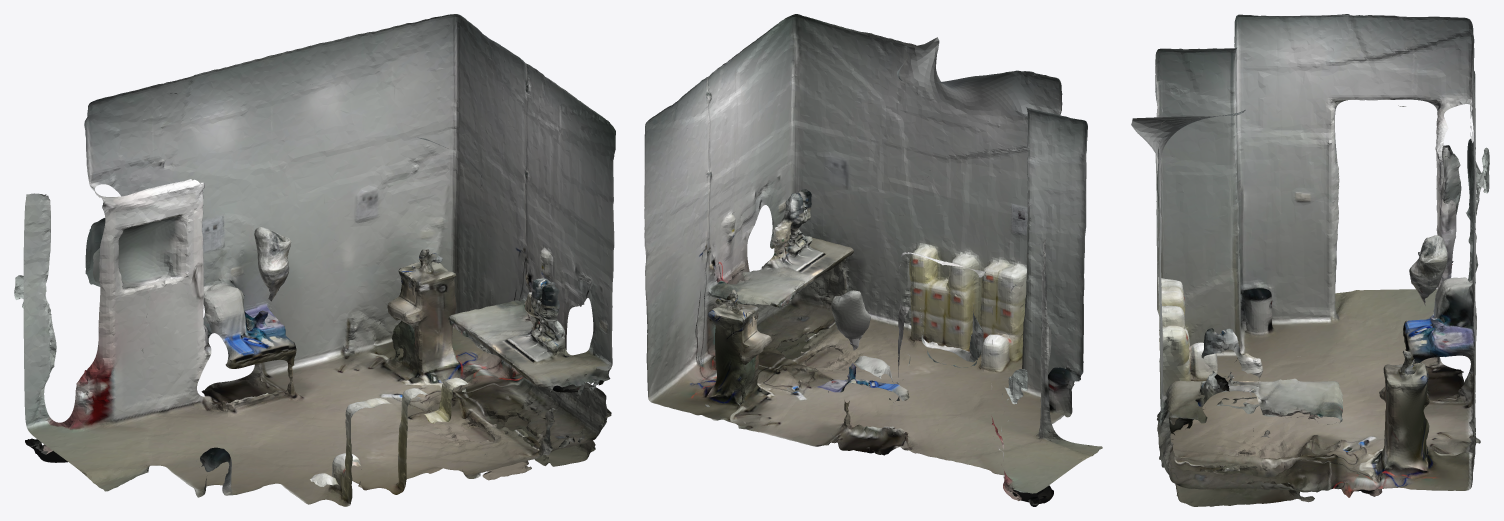
The model's file is room-fillsh.glb.
3 views of the same model, side by side, from view 1: azimuth 30°, elevation 25°; view 2: azimuth 150°, elevation 25°; view 3: azimuth 270°, elevation 25° (orthographic). The views are drawn at different scales.
Bounding box in the file's own units: 4.36 × 3.25 × 3.22.
Materials: 1 (1 with a texture image).
